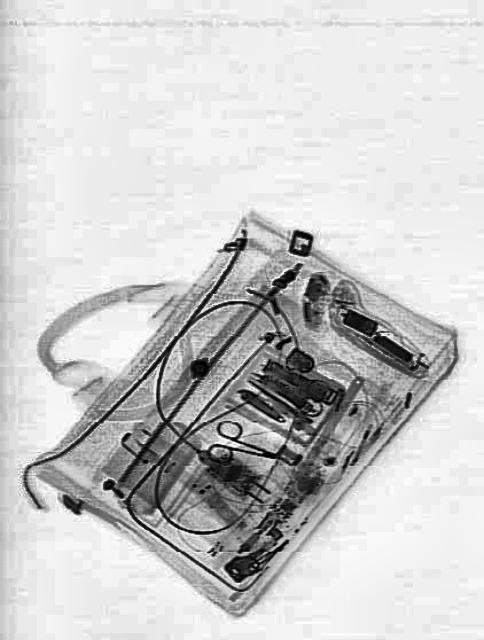Scissors: (204, 414, 284, 480)
